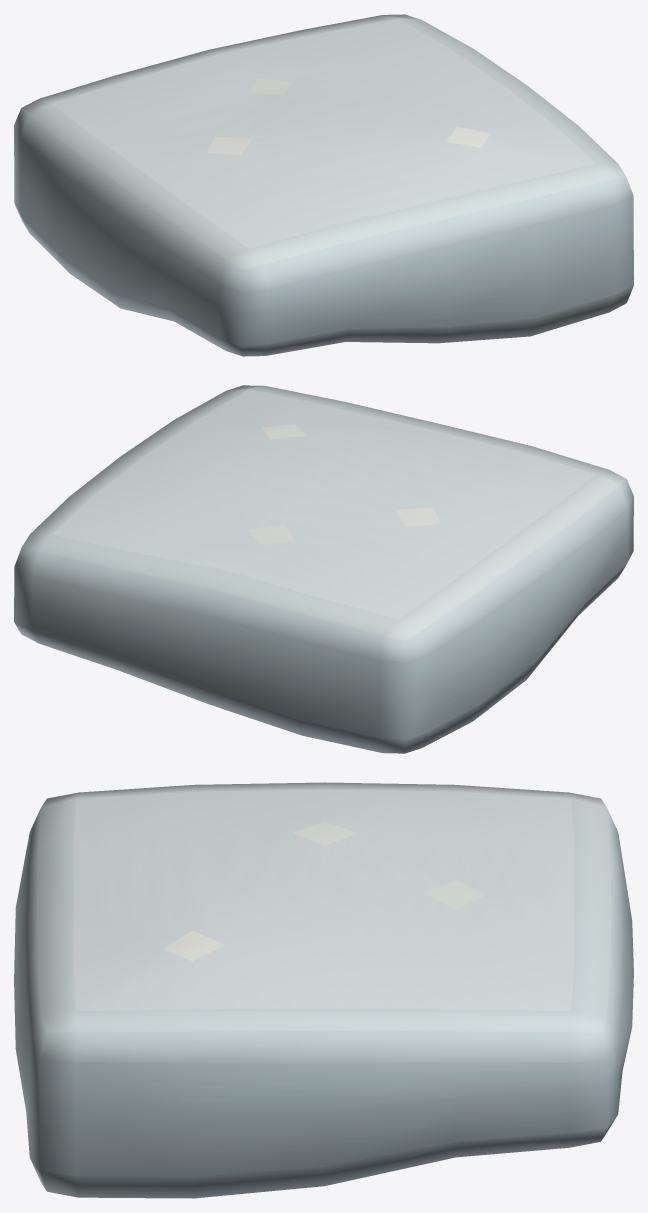
File: snow_top.fbx
3 renders of one model, top to bottom at view 1: azimuth 30°, elevation 25°; view 2: azimuth 150°, elevation 25°; view 3: azimuth 270°, elevation 25°, orthographic. The views are drawn at different scales.
Parts seen in each view (by area): view 1: snowtop_LOD0; view 2: snowtop_LOD0; view 3: snowtop_LOD0.
Part boxes in pixels (x1=…): snowtop_LOD0: x1=14, y1=14, x2=633, y2=356; snowtop_LOD0: x1=14, y1=385, x2=633, y2=753; snowtop_LOD0: x1=14, y1=782, x2=633, y2=1198.
Bounding box in the file's own units: 120 × 42.36 × 117.
